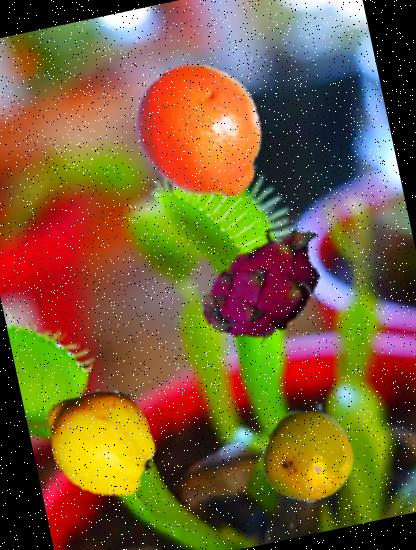Maracuja: (249, 396, 366, 512)
Pitahaya: (182, 201, 350, 369)
Quince: (29, 368, 174, 512)
Tangelo: (118, 50, 286, 218)
